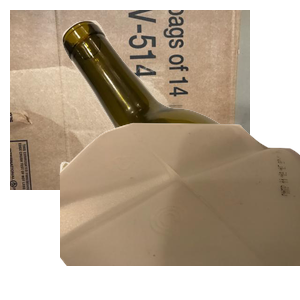cardboard: (10, 10, 250, 190)
glass: (60, 18, 300, 198)
plastic: (60, 120, 300, 300)
trash: (57, 137, 257, 300)
